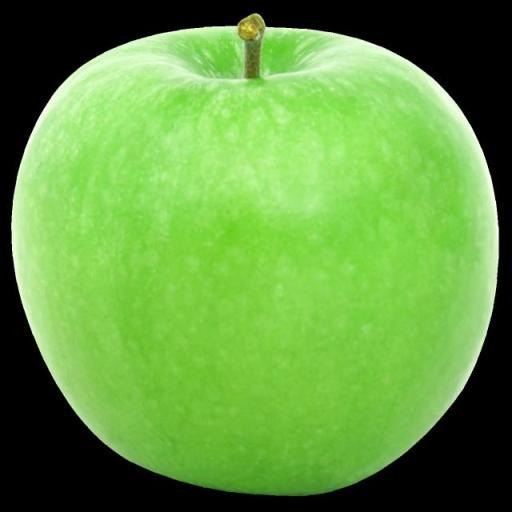fruit: (12, 18, 496, 492)
